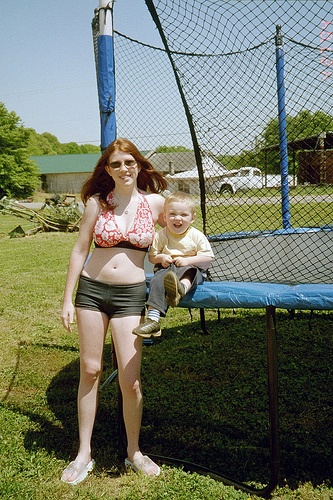head: (104, 138, 142, 187), (158, 191, 196, 240)
person: (57, 134, 163, 487), (138, 190, 214, 341)
